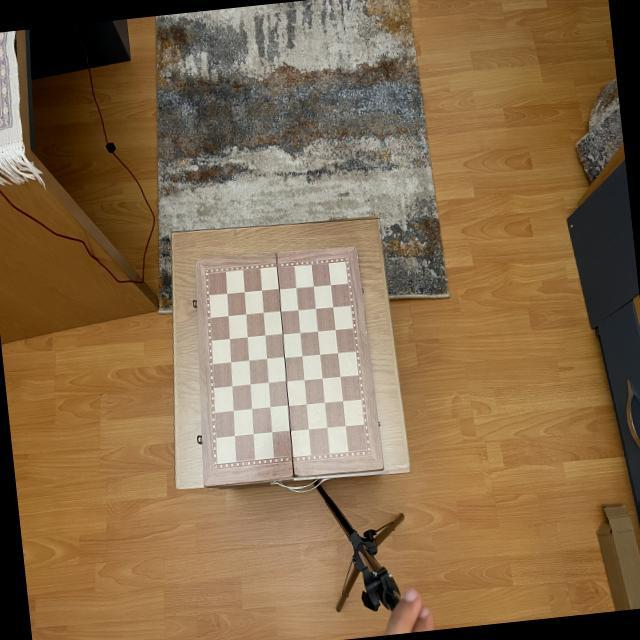corners: (349, 240, 362, 256), (192, 254, 205, 269), (198, 480, 212, 491), (377, 462, 388, 474)
